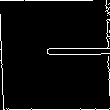L_W: (7, 39, 103, 71)
